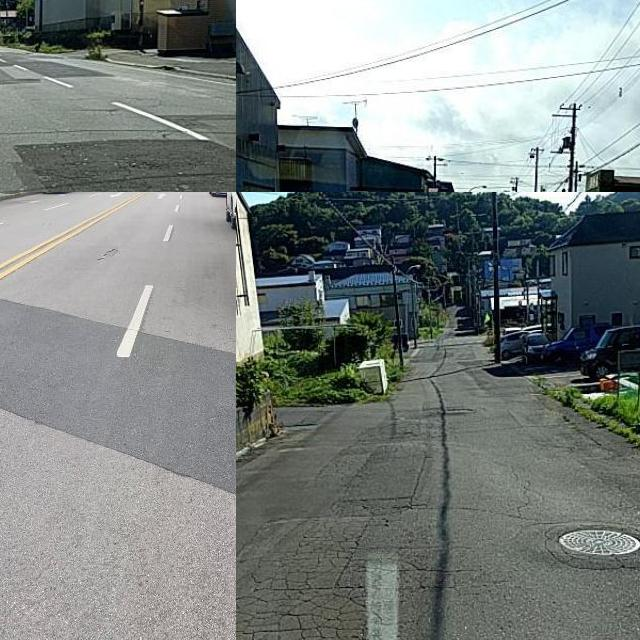Lubang: (559, 526, 640, 561)
Retak Buaya: (236, 522, 423, 640)
Sambungan: (0, 298, 236, 498), (13, 134, 236, 192)
